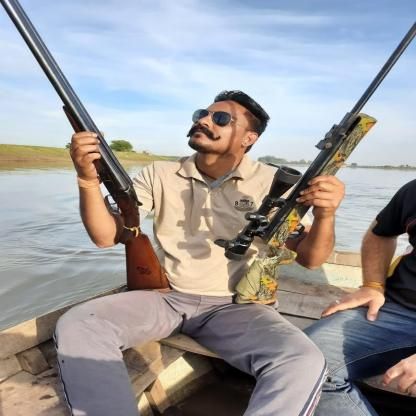rifle: (223, 21, 416, 306), (0, 0, 173, 293)
